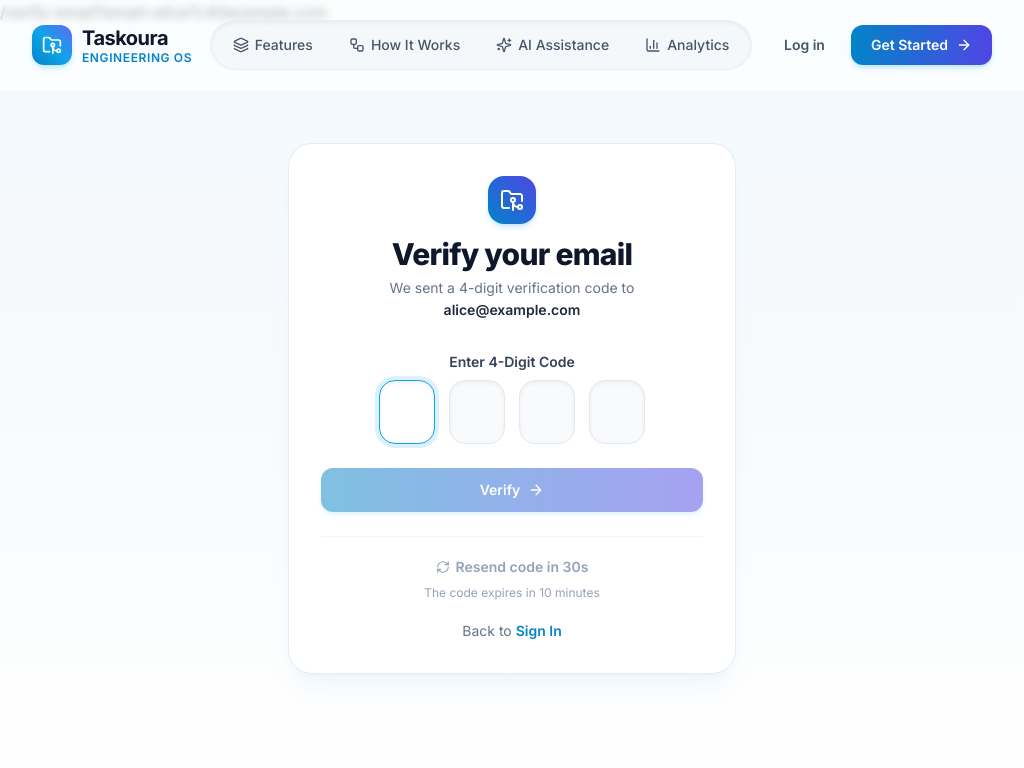
Test case: PHASE 6 (frontend): F6 Email Screens & OTP Hardening › VerifyEmailPage › on normal wrong OTP: shows 400 VALIDATION_FAILED message and clears boxes
The image size is (1024, 768).
// Enter 4 digits
Type "1" into the field named "Digit 1" at [407, 412], box [379,380,435,444]
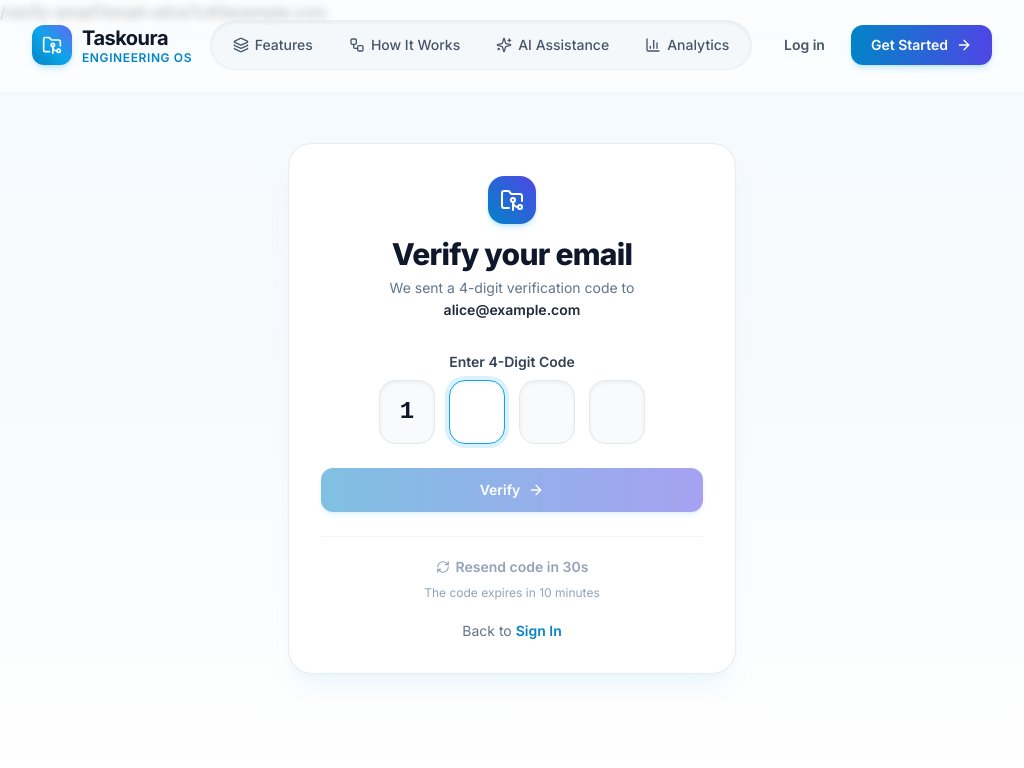
Type "2" into the field named "Digit 2" at [477, 412], box [449,380,505,444]
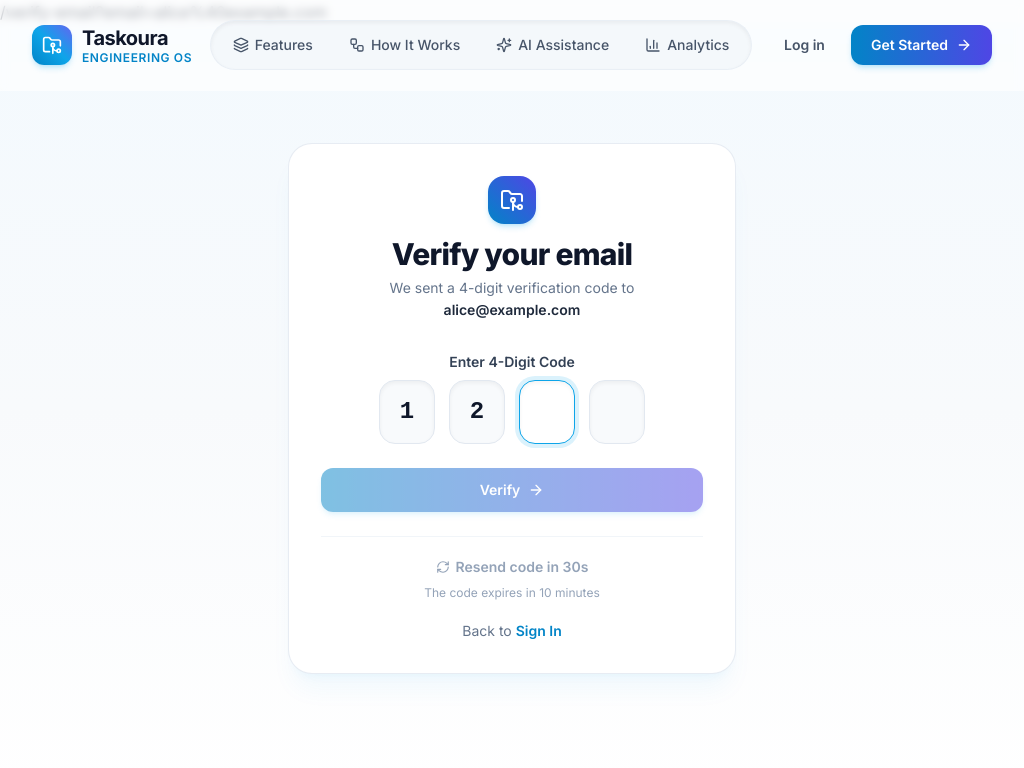
Type "3" into the field named "Digit 3" at [547, 412], box [519,380,575,444]
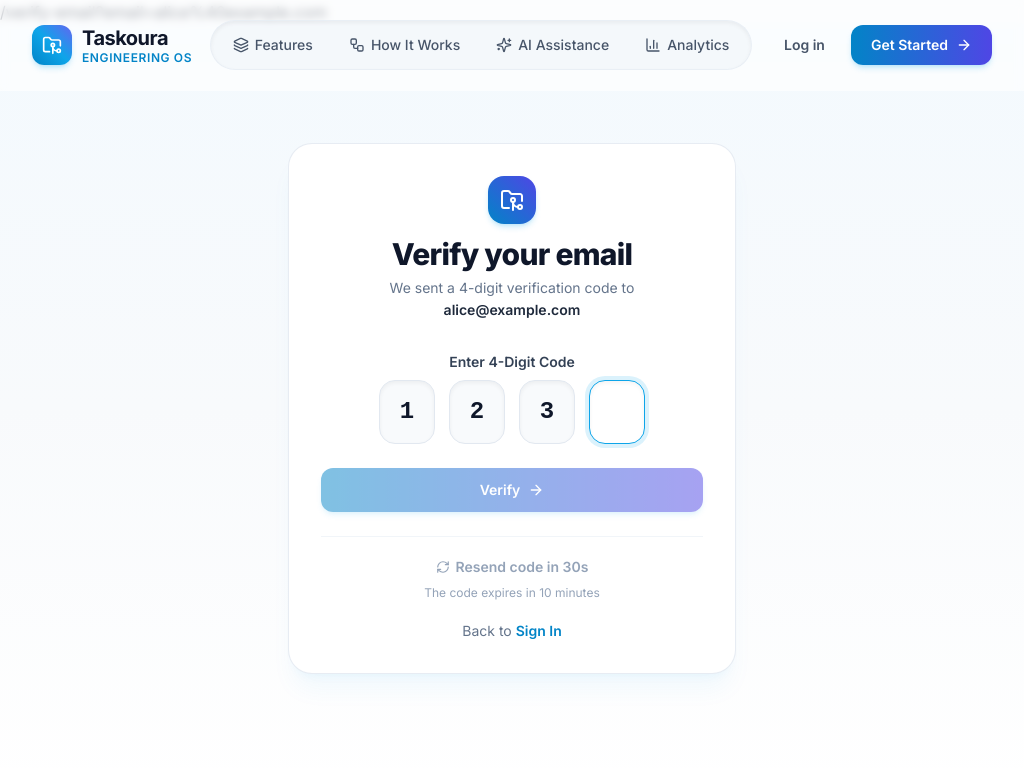
Type "4" into the field named "Digit 4" at [617, 412], box [589,380,645,444]
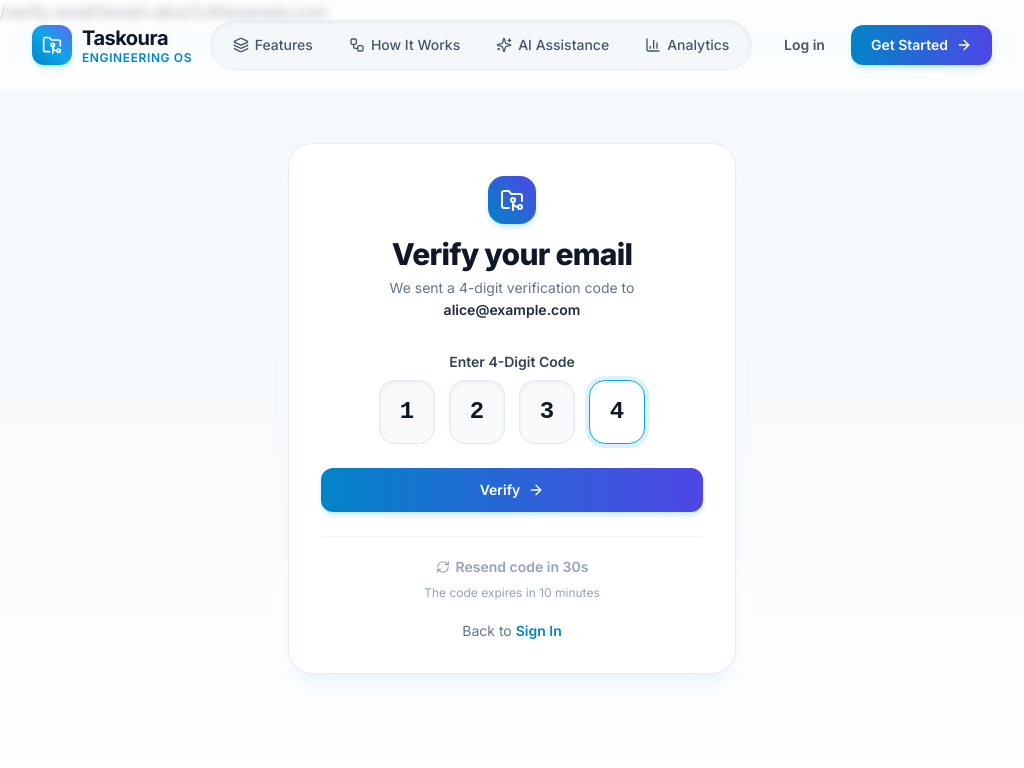
Click the button "Verify" at [512, 490], box [321,468,703,512]
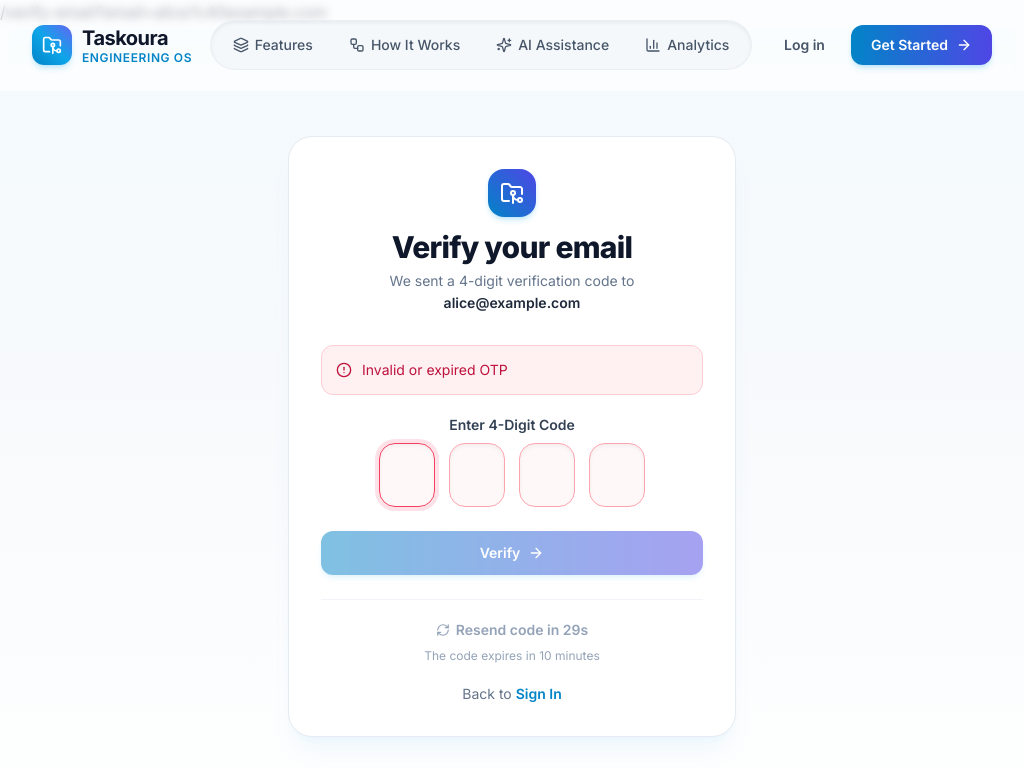
Now the text "Invalid or expired OTP" is shown, box [362,360,508,380]
Now the field named "Digit 1" is empty, box [379,443,435,507]
Now the field named "Digit 2" is empty, box [449,443,505,507]
